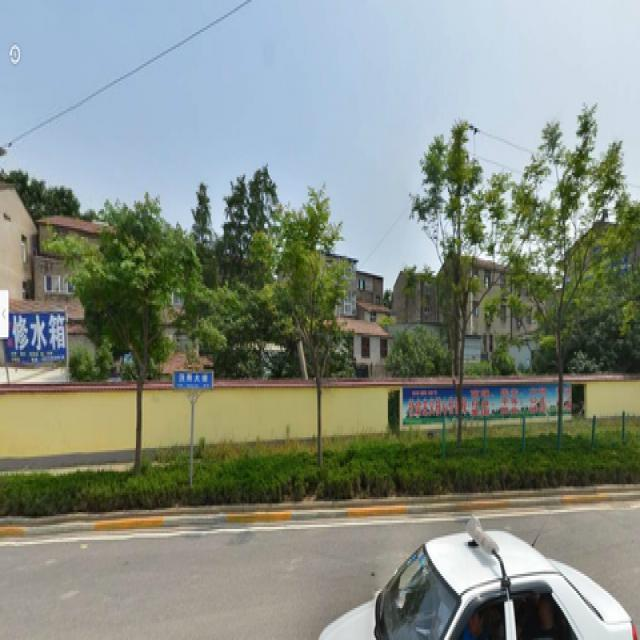koel: (517, 136, 619, 438), (429, 160, 494, 439), (283, 235, 337, 469)
